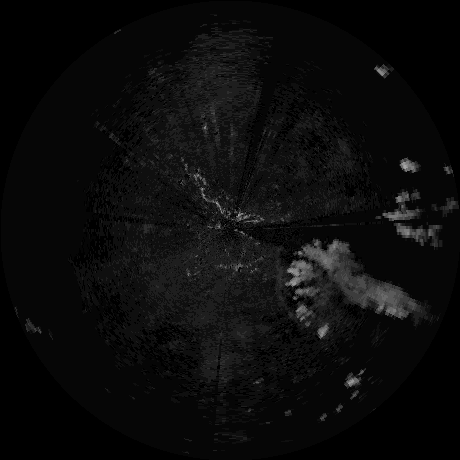frontgust: (272, 259, 295, 317)
